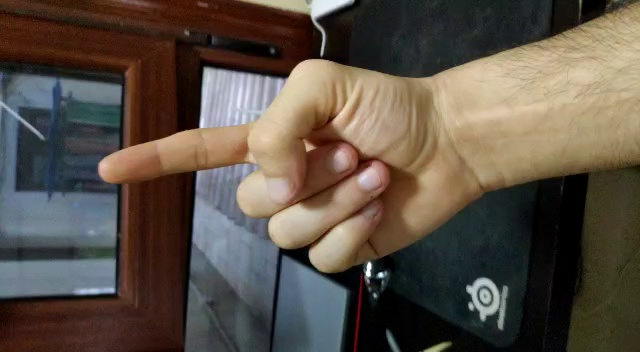One: (93, 118, 279, 193)
